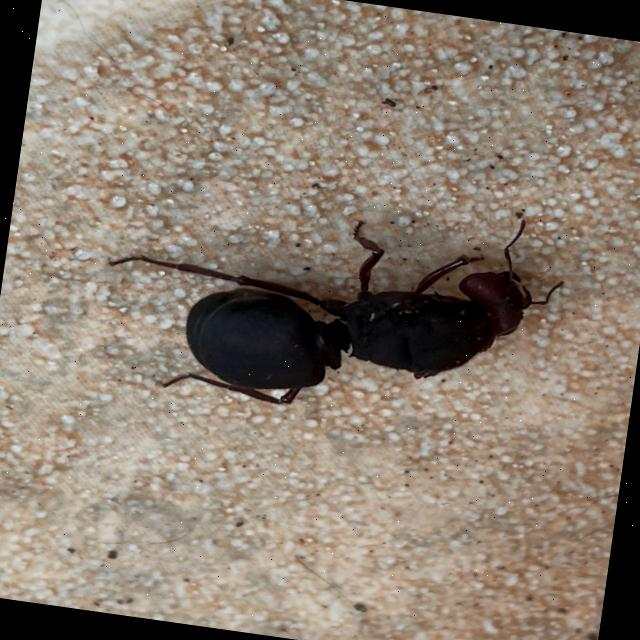Alive-Female-Dealate: (93, 164, 572, 442)
